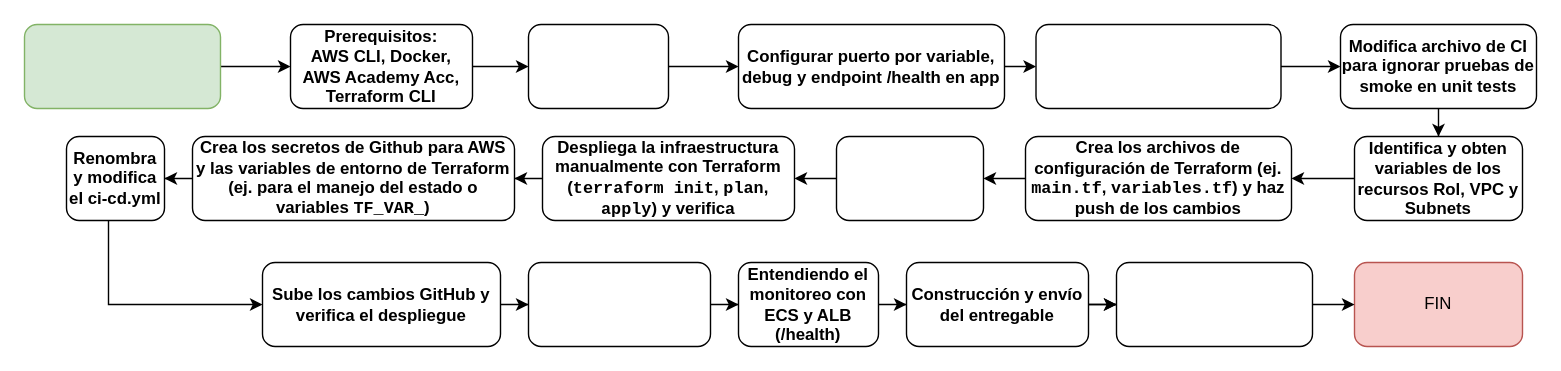
Some shapes in this 1561 by 371 pixel diagram are drawn without their labels. The shapes that lost their labels are listed below. From the top down, each one's box as (x1, y1, x2, y2) in pixels, then its label:
(23, 23, 220, 108): INICIO
(527, 23, 668, 108): Configurar credenciales AWS CLI
(1035, 23, 1281, 108): Configurar pruebas de aceptación con puerto por variable y crear smoke tests
(835, 135, 983, 220): Verifica, corrije, ajusta hasta que todo CI corra.
(527, 261, 710, 346): Realiza la validación final del pipeline y recursos
(1115, 261, 1312, 346): Mejora opcional pero recomendada (nuevas funciones)
